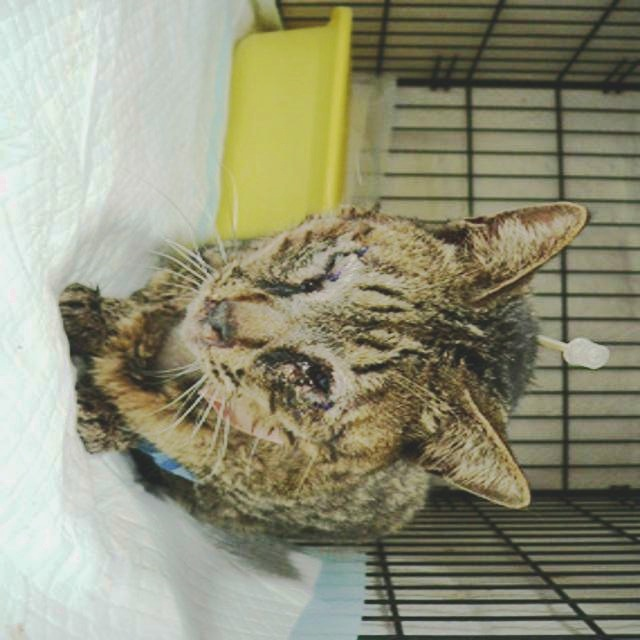eye_infection: (291, 362, 336, 399)
